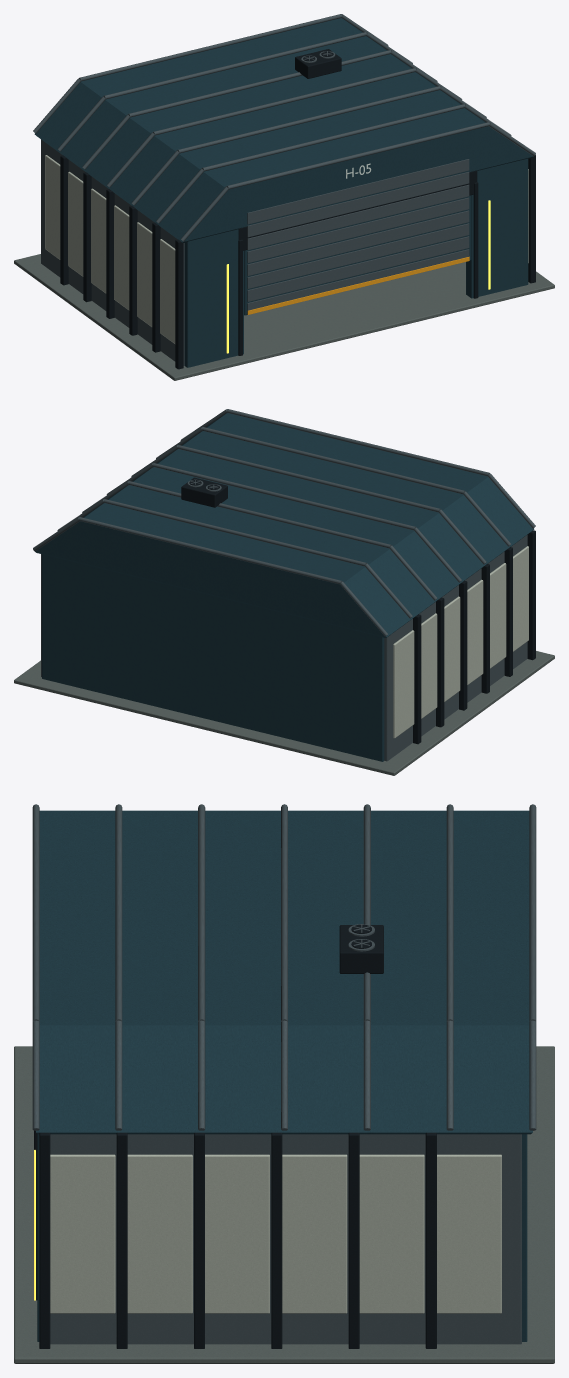
File: Hangar.gltf
3 renders of one model, top to bottom at view 1: azimuth 30°, elevation 25°; view 2: azimuth 150°, elevation 25°; view 3: azimuth 270°, elevation 25°, orthographic. The views are drawn at different scales.
Visible parts, largest first — view 1: Hangar_Panel_azul, Puerta_independiente_Metal_gris, Hangar_Metal_gris, Hangar_Hormigon, Hangar_Acero_oscuro, Hangar_Panel_marfil, Puerta_independiente_Panel_azul, Puerta_independiente_Amarillo, Hangar_Luz_ambar; view 2: Hangar_Panel_azul, Hangar_Metal_gris, Hangar_Panel_marfil, Hangar_Hormigon, Hangar_Acero_oscuro; view 3: Hangar_Panel_azul, Hangar_Panel_marfil, Hangar_Metal_gris, Hangar_Hormigon, Hangar_Acero_oscuro.
Part boxes in pixels (x1,y1,x2,y2): Hangar_Panel_azul: (34,18,533,367); Puerta_independiente_Metal_gris: (247,159,469,314); Hangar_Metal_gris: (33,14,535,365); Hangar_Hormigon: (14,254,554,380); Hangar_Acero_oscuro: (60,49,535,369); Hangar_Panel_marfil: (45,155,528,343); Puerta_independiente_Panel_azul: (244,195,471,315); Puerta_independiente_Amarillo: (247,256,469,314); Hangar_Luz_ambar: (226,200,490,353); Hangar_Panel_azul: (35,413,534,761); Hangar_Metal_gris: (33,409,535,761); Hangar_Panel_marfil: (393,546,528,738); Hangar_Hormigon: (14,651,554,775); Hangar_Acero_oscuro: (181,477,535,744); Hangar_Panel_azul: (36,810,532,1341); Hangar_Panel_marfil: (50,1154,501,1313); Hangar_Metal_gris: (32,804,536,1344); Hangar_Hormigon: (14,1046,554,1363); Hangar_Acero_oscuro: (34,924,436,1348).
Size of the model in its own units: 67 by 31.87 by 49.
Materials: 8 (8 with a texture image).
